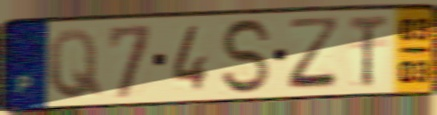4: (170, 23, 212, 95)
7: (106, 22, 153, 101)
Q: (47, 26, 104, 102)
S: (218, 16, 275, 97)
T: (347, 12, 390, 91)
Z: (286, 14, 343, 93)
